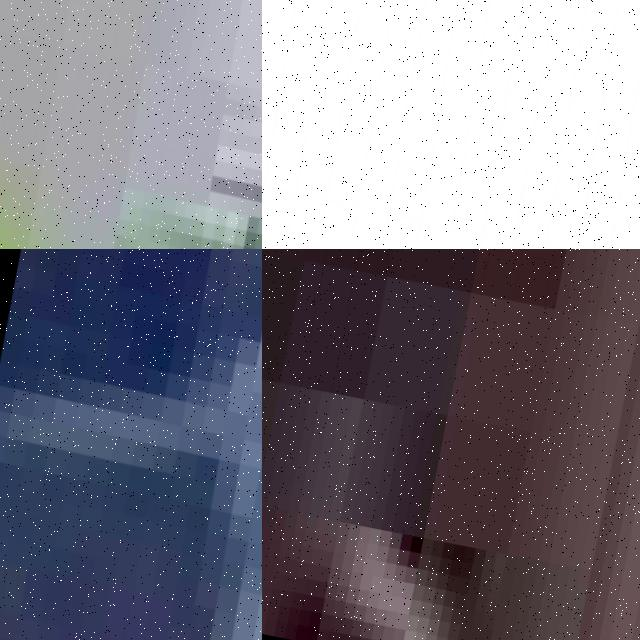0: (0, 0, 262, 249)
drone: (0, 249, 262, 640), (262, 0, 640, 249)
